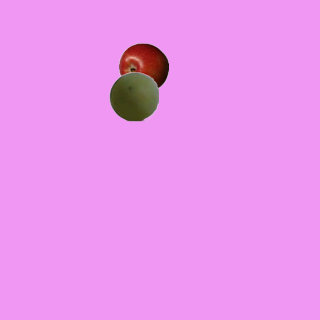Apple Braeburn: (118, 42, 168, 92)
Grape White 4: (108, 71, 158, 121)
